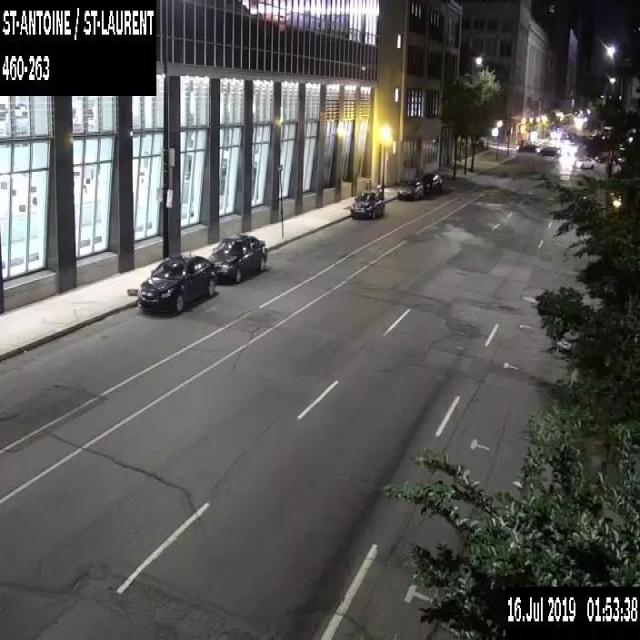vehicle: (136, 253, 216, 316), (206, 232, 267, 282), (350, 190, 385, 220), (398, 177, 424, 200), (420, 171, 442, 195), (537, 144, 561, 156), (573, 156, 596, 168), (516, 142, 538, 152)
